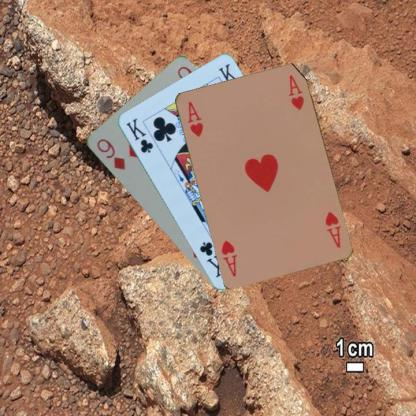9d: (94, 136, 126, 171)
Ah: (322, 208, 342, 249), (184, 99, 204, 138)
Kc: (123, 115, 154, 154)
